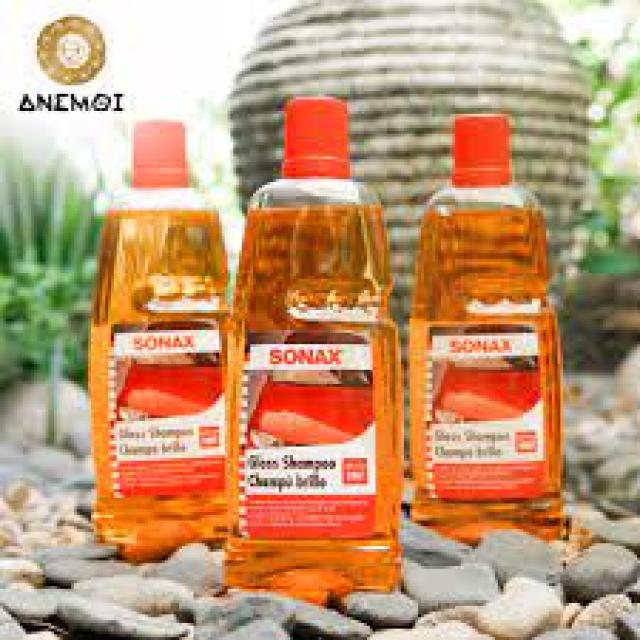winwinshield_washer: (238, 96, 405, 590), (93, 118, 233, 540), (417, 113, 566, 501)
